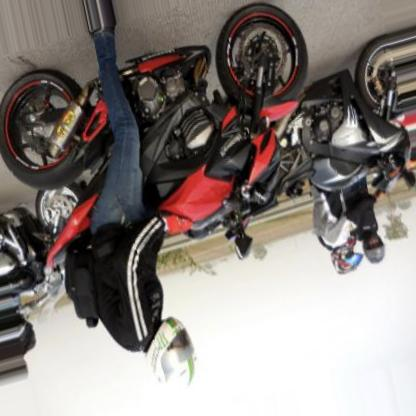with helmet: (146, 317, 200, 394), (330, 236, 369, 278), (364, 229, 384, 261)
